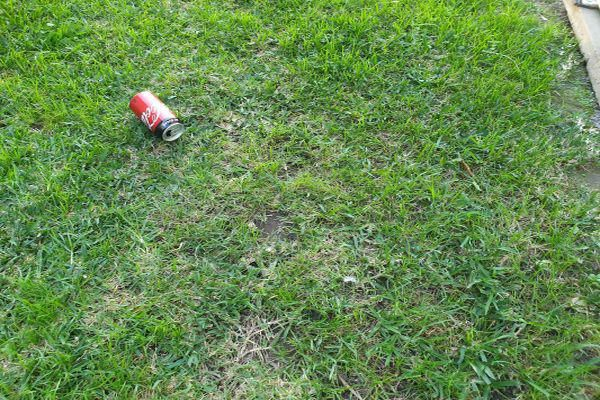Plastic Bottle: (129, 90, 185, 142)
